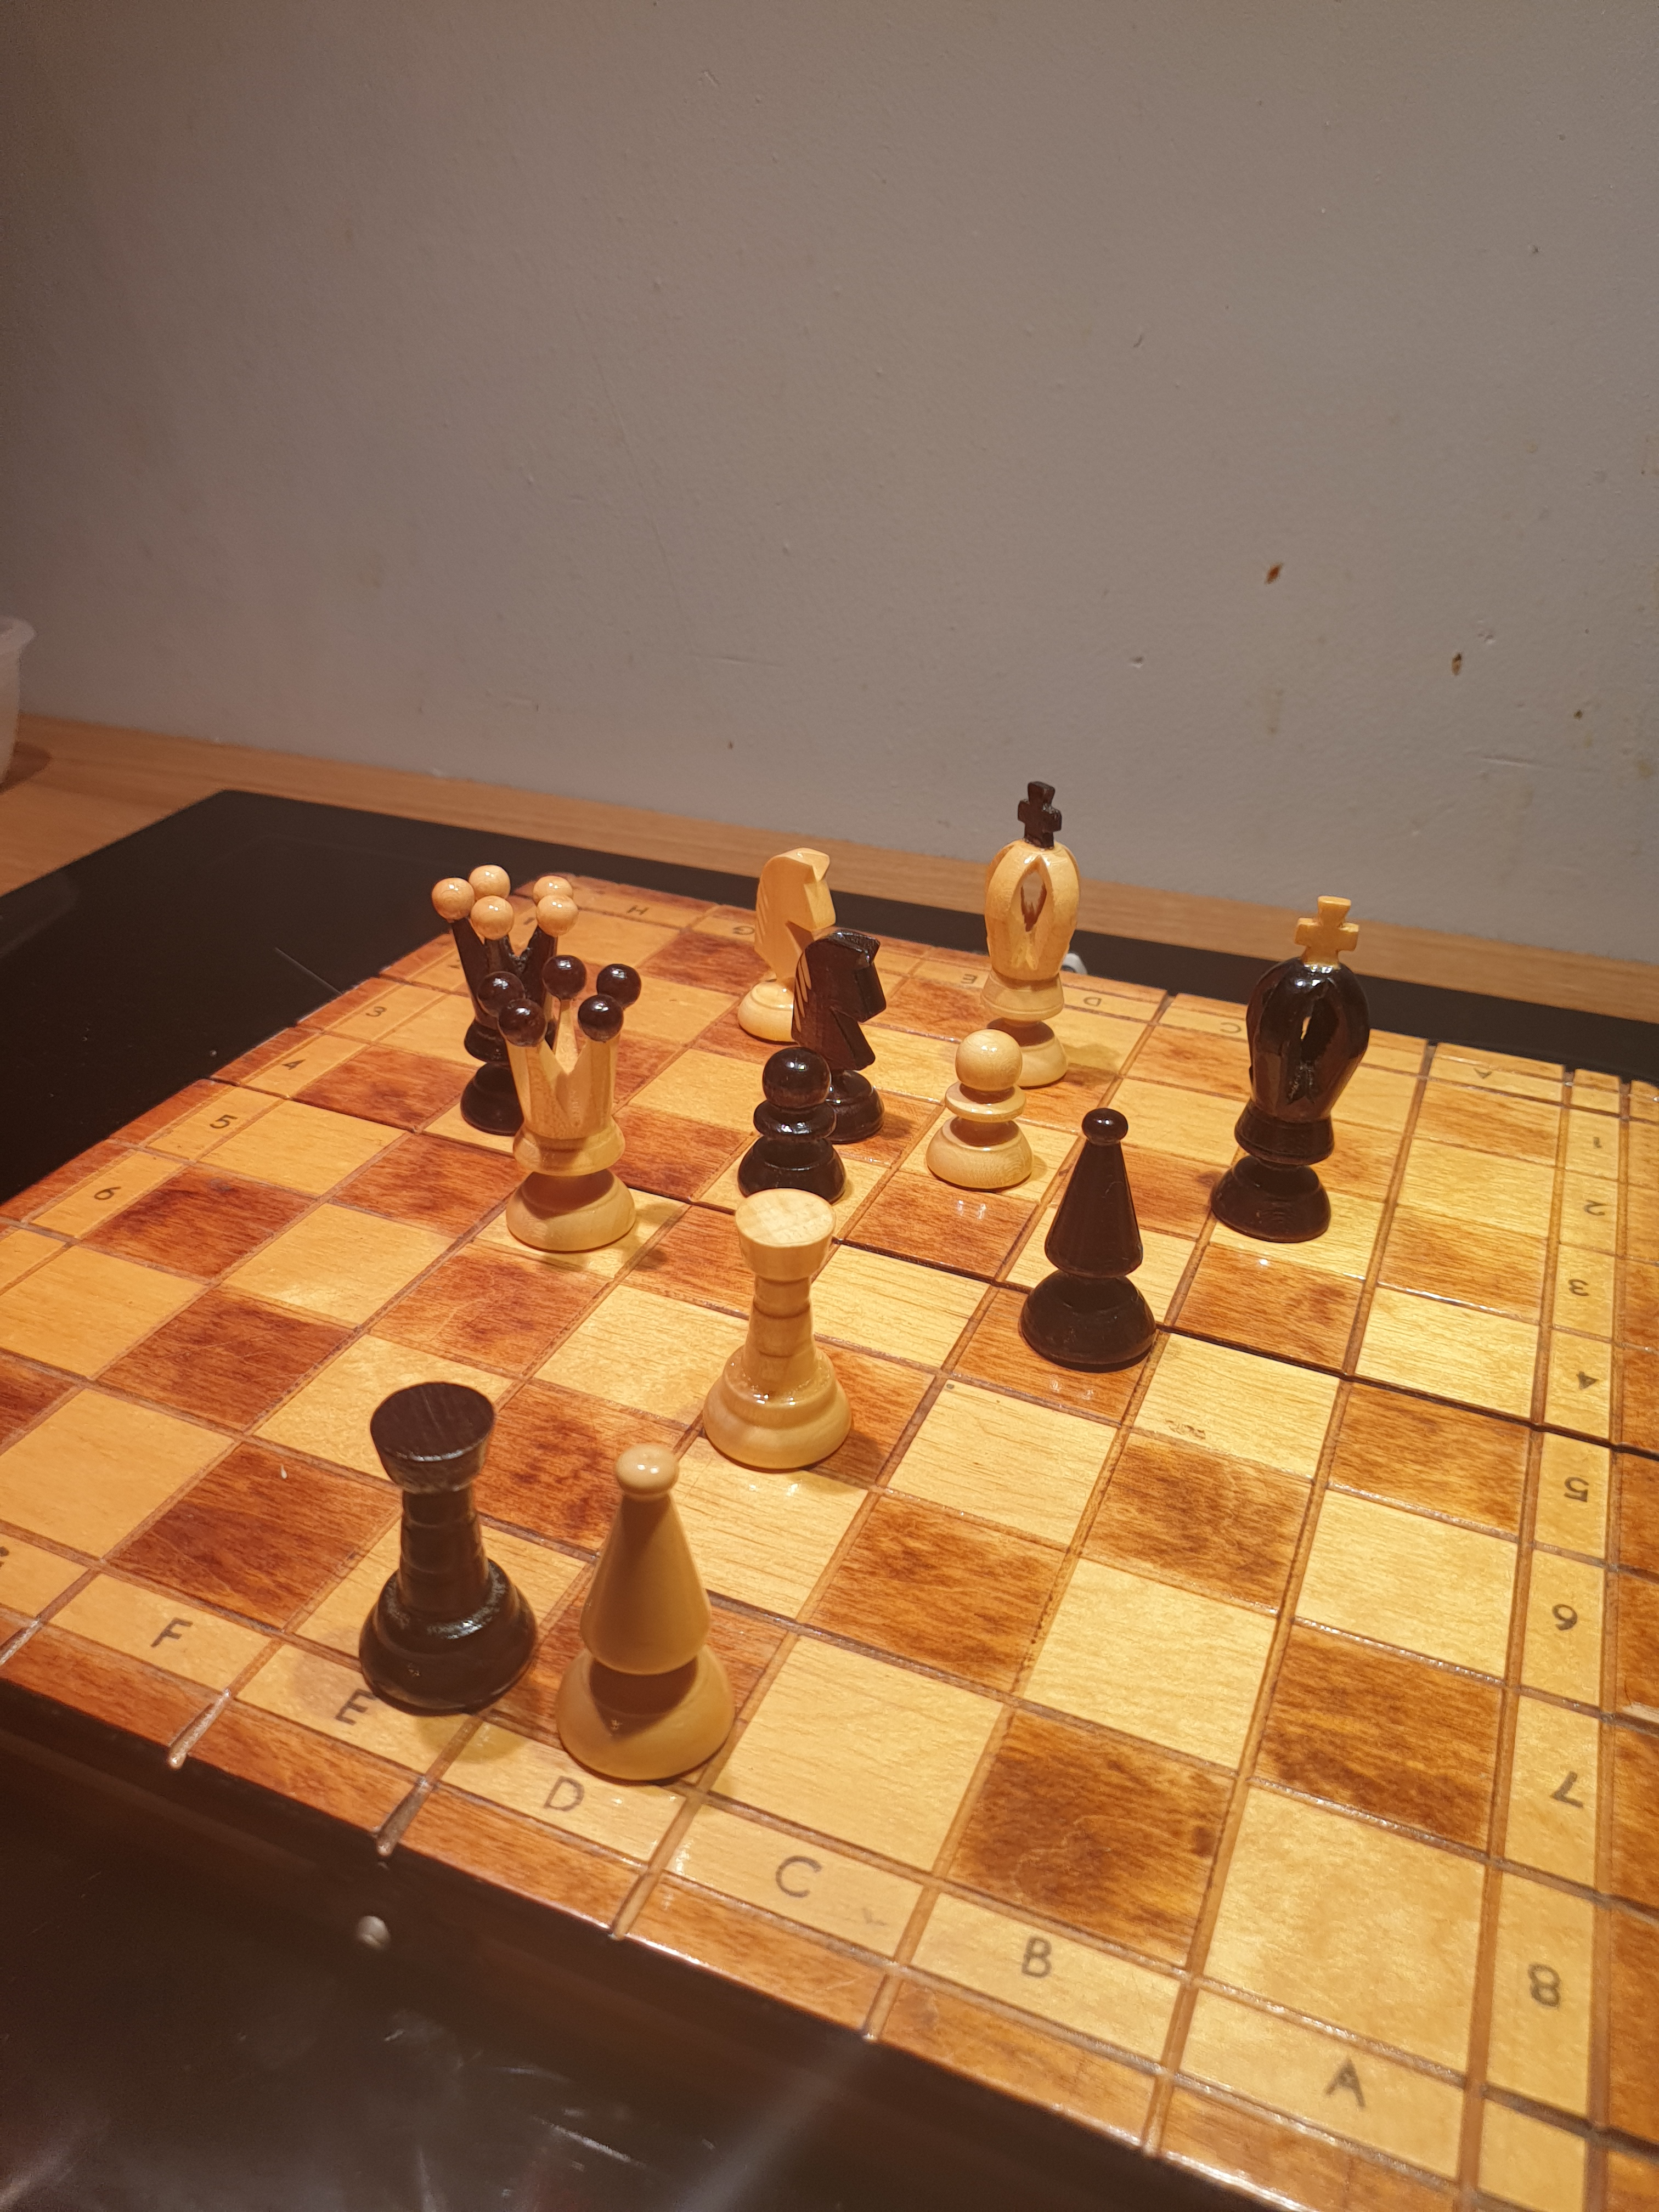bbishop: (1009, 1097, 1169, 1381)
bking: (1201, 880, 1396, 1244)
bknight: (784, 921, 897, 1153)
bpawn: (730, 1036, 866, 1235)
bqueen: (425, 853, 601, 1143)
brook: (350, 1378, 547, 1726)
wbishop: (538, 1432, 751, 1801)
wking: (962, 773, 1087, 1099)
wknight: (730, 841, 847, 1052)
wpawn: (915, 1019, 1044, 1205)
wqueen: (469, 951, 662, 1263)
wrook: (697, 1181, 866, 1491)
